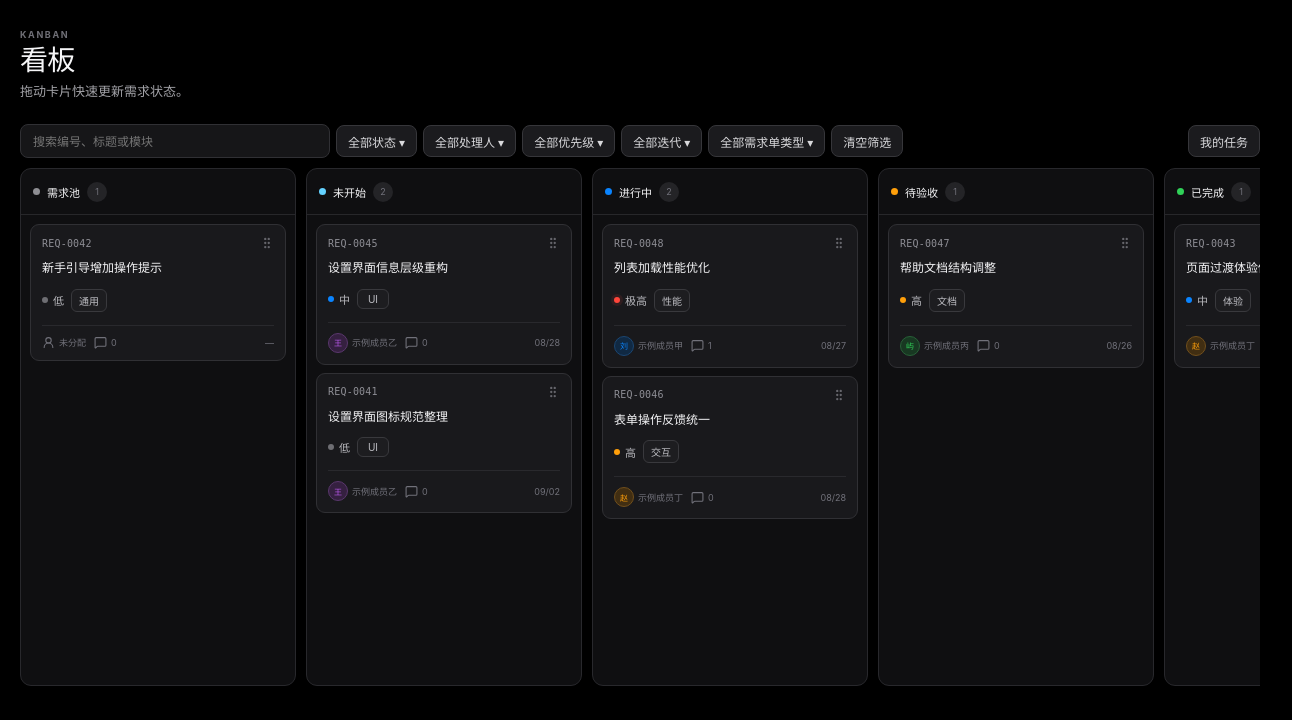
切回页面时同步迭代，看板保持无默认迭代筛选
Click the button with aria-label "迭代筛选": (662, 141) [621,125,702,157]
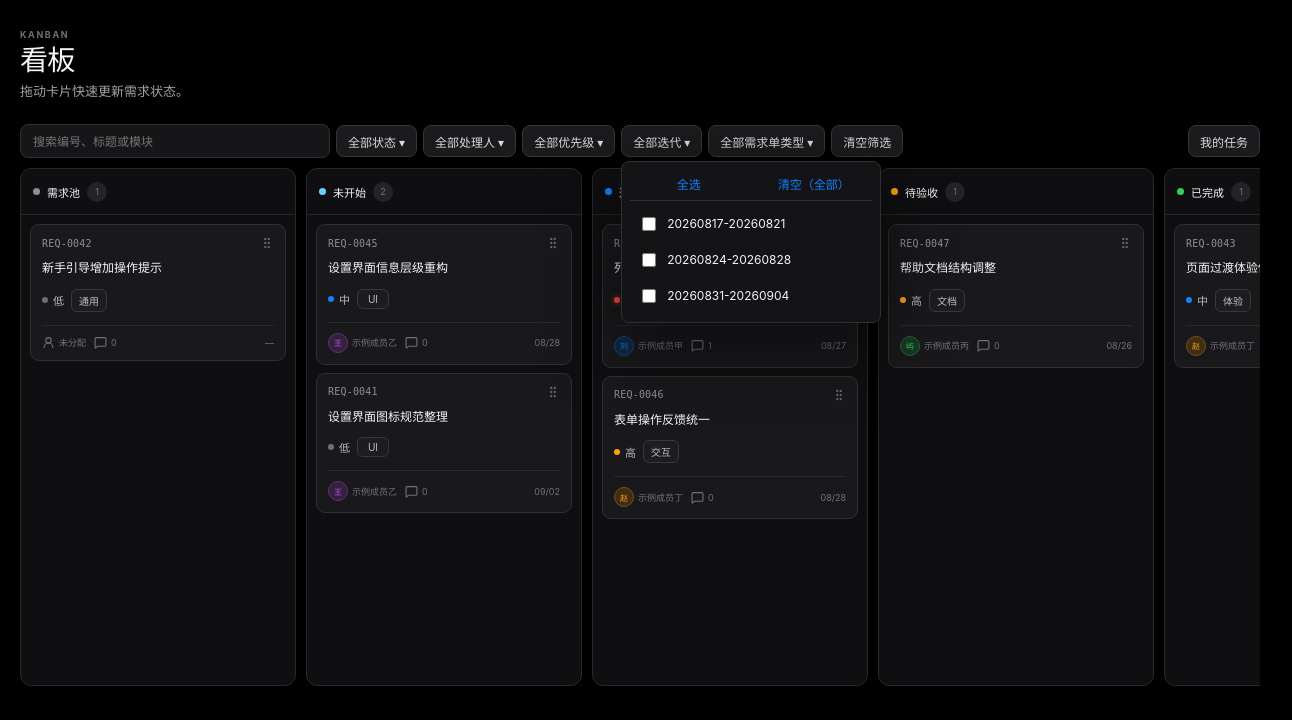
Expected: the checkbox labelled "20260831-20260904" is not checked, [642,289,656,303]
